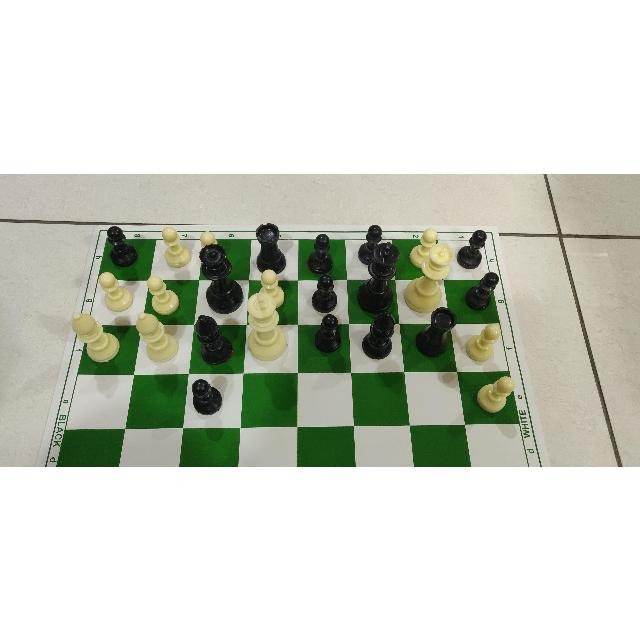black-bishop: (189, 308, 236, 371), (358, 306, 400, 372)
black-king: (349, 239, 400, 314)
black-pawn: (356, 210, 393, 268), (102, 222, 144, 271), (463, 268, 502, 314), (187, 373, 226, 417), (305, 231, 343, 276), (309, 312, 346, 357), (455, 222, 488, 271), (309, 272, 343, 313)
black-queen: (192, 242, 247, 316)
black-rook: (412, 302, 459, 369), (246, 217, 290, 276)
white-bishop: (61, 304, 124, 369), (129, 308, 182, 370)
white-king: (243, 286, 292, 364)
white-pawn: (471, 365, 520, 419), (462, 316, 502, 365), (198, 227, 234, 281), (91, 266, 134, 311), (154, 223, 194, 271), (405, 225, 445, 273), (142, 271, 181, 316), (252, 266, 287, 312)
white-queen: (402, 241, 449, 316)
